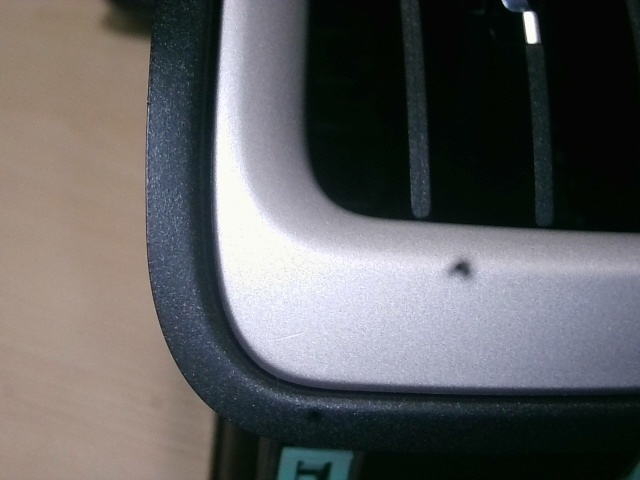NG: (273, 322, 314, 349)
